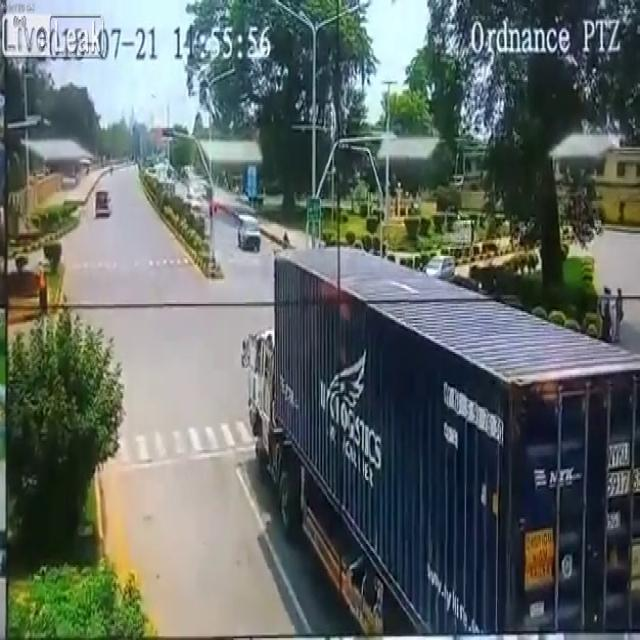car: (233, 215, 266, 261), (94, 182, 117, 230), (423, 258, 457, 279)
truck: (234, 250, 640, 640)
